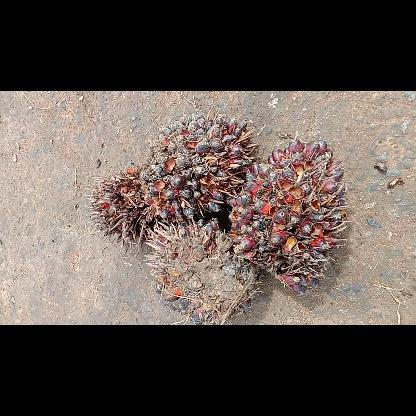TBS abnormal: (226, 140, 350, 294), (140, 107, 258, 225), (144, 220, 262, 324), (84, 168, 160, 252)
